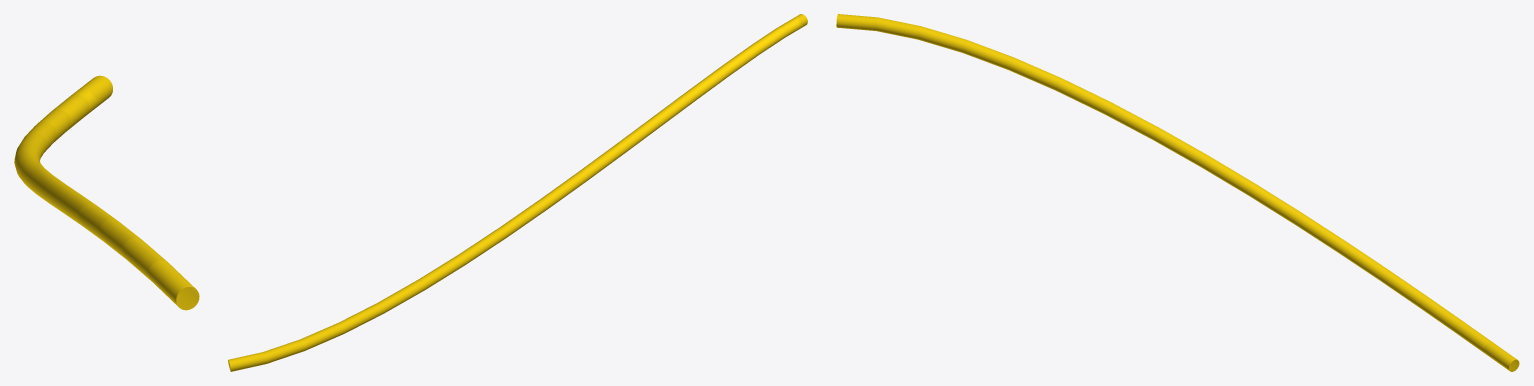
File: Event_421115418_track_138.fbx
3 renders of one model, left to right at view 1: azimuth 90°, elevation 25°; view 2: azimuth 210°, elevation 25°; view 3: azimuth 330°, elevation 25°, orthographic. The views are drawn at different scales.
Visible parts, largest first — view 1: Model; view 2: Model; view 3: Model.
Part boxes in pixels (x1,y1,x2,y2): Model: (14, 75, 199, 310); Model: (228, 14, 807, 371); Model: (836, 14, 1519, 371).
Size of the model in its own units: 2.19 by 0.6867 by 0.2934.
